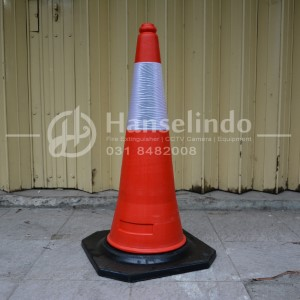traffic cone: (81, 23, 215, 283)
